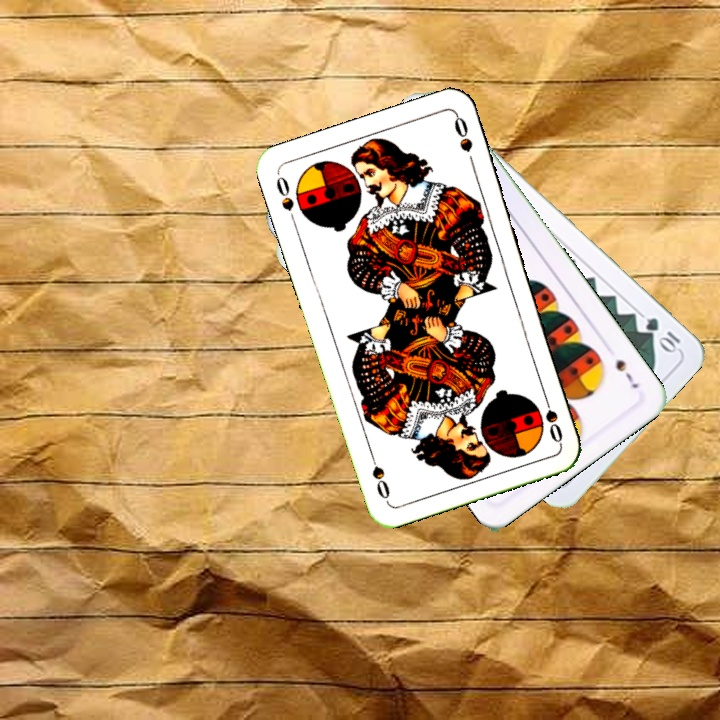G10: (641, 313, 684, 355)
S7: (611, 355, 641, 392)
SO: (538, 388, 565, 446), (272, 170, 299, 228)
